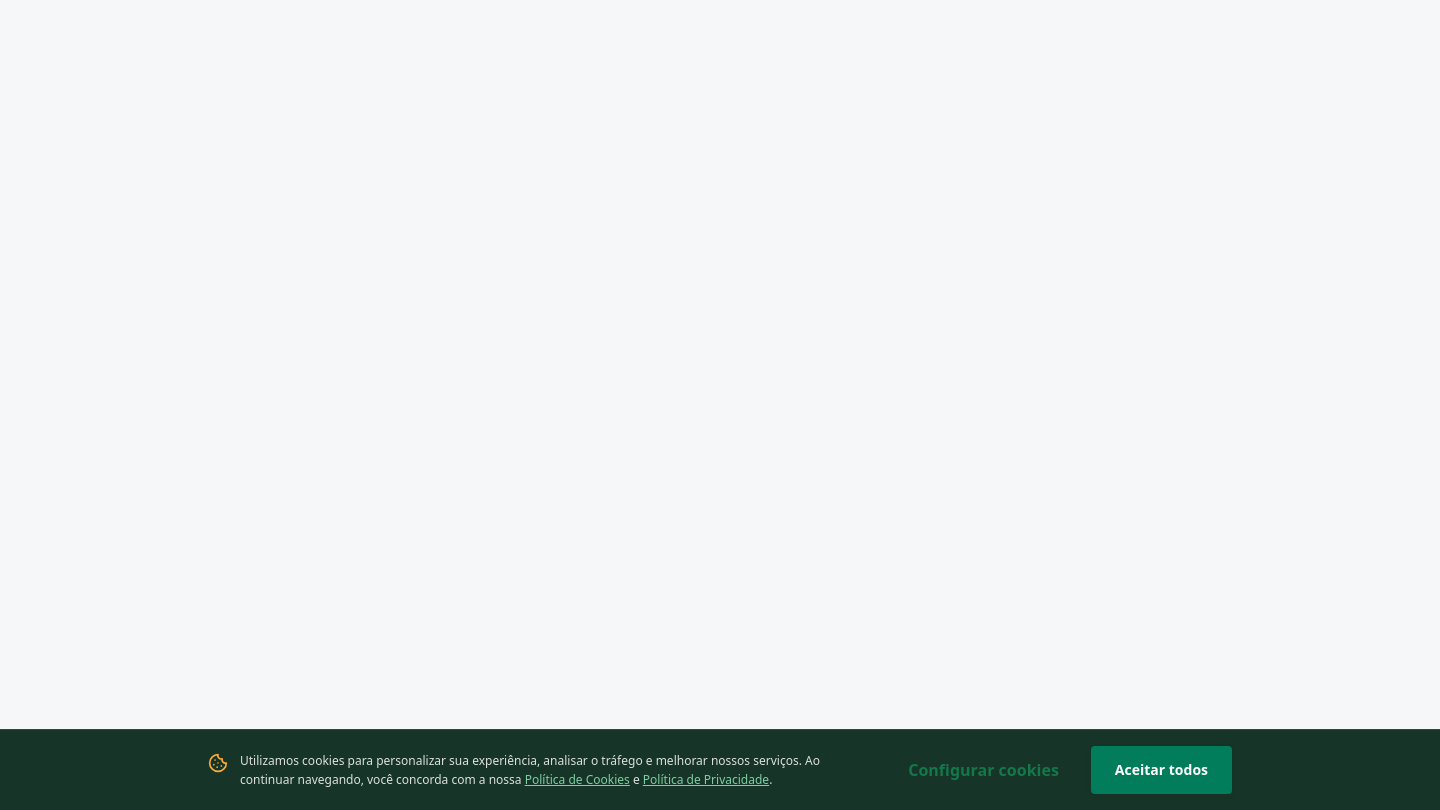
Test case: CookieBanner › os links do texto abrem o documento correspondente
Click the button "Política de Cookies" at x=577, y=780, box [525,770,630,790]
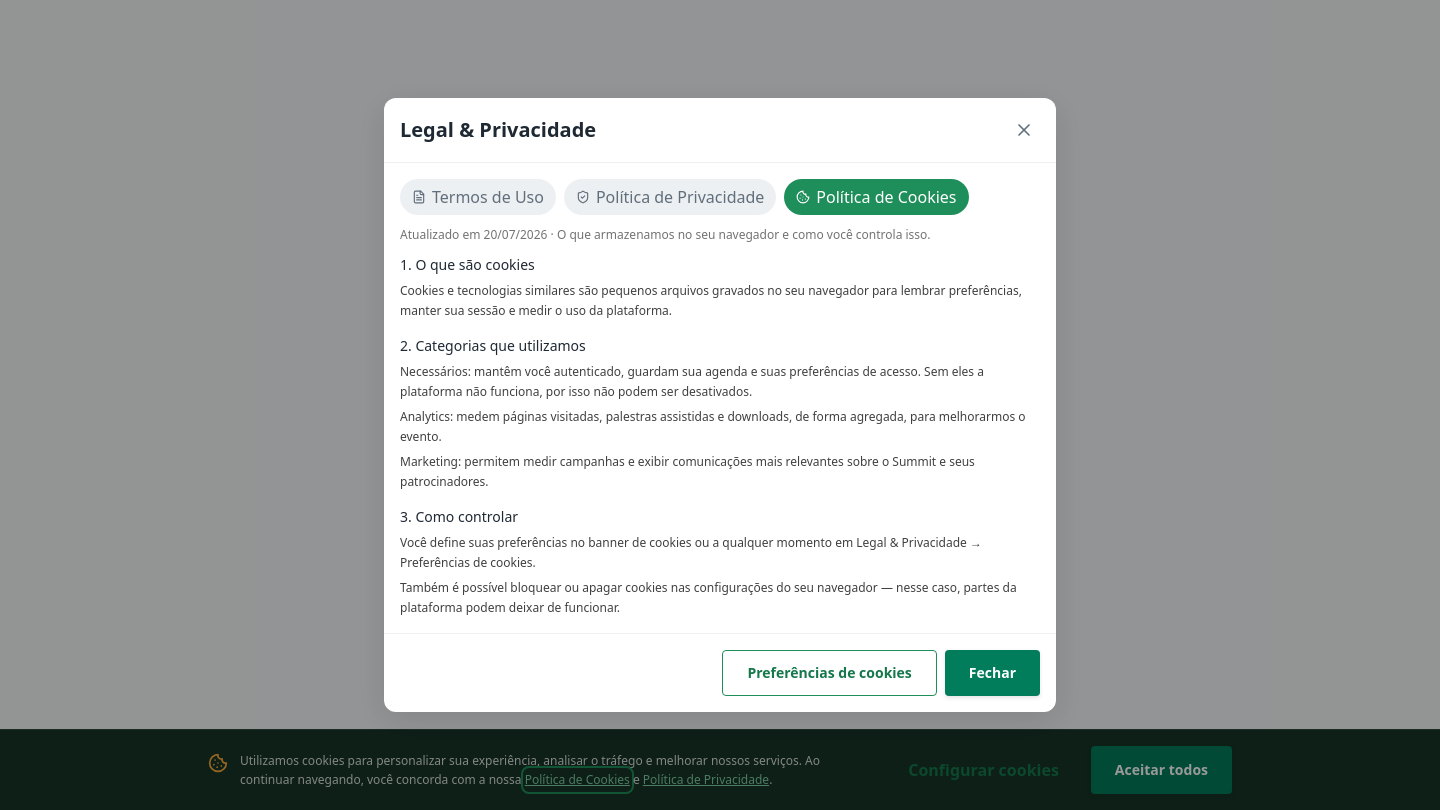
Expected: the dialog "Legal & Privacidade" is shown, [384,98,1056,712]
